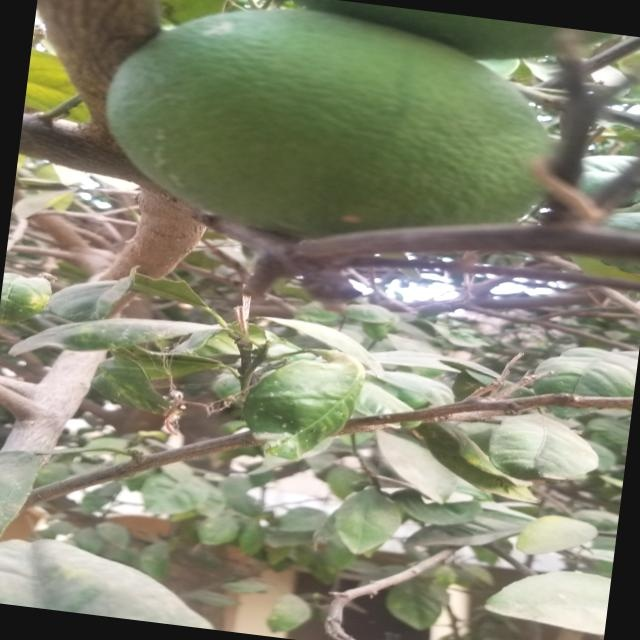agrume: (90, 0, 557, 268)
